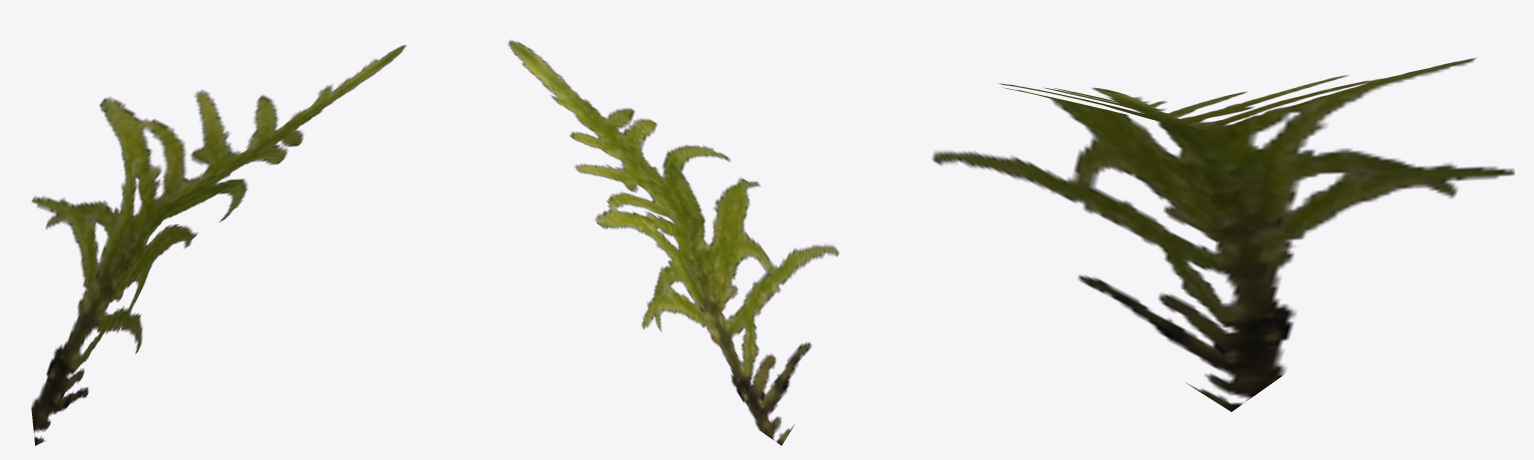
The model's file is moss_08.glb.
3 views of the same model, side by side, from view 1: azimuth 30°, elevation 25°; view 2: azimuth 150°, elevation 25°; view 3: azimuth 270°, elevation 25° (orthographic). The views are drawn at different scales.
Visible parts, largest first — view 1: IslandMoss08; view 2: IslandMoss08; view 3: IslandMoss08.
Part boxes in pixels (left/top/right/bottom): IslandMoss08: left=31, top=45, right=406, bottom=445; IslandMoss08: left=508, top=40, right=838, bottom=445; IslandMoss08: left=932, top=58, right=1514, bottom=411.
Size of the model in its own units: 0.0165 by 0.0147 by 0.0127.
Materials: 1 (1 with a texture image).
